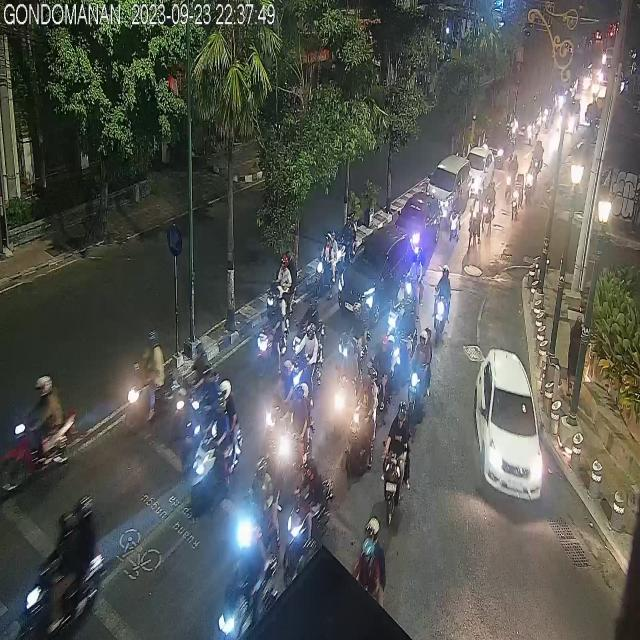car: (475, 350, 543, 501), (341, 228, 412, 328), (394, 188, 443, 262), (427, 157, 469, 222), (464, 148, 495, 196), (483, 128, 512, 171)
motorcycle: (15, 495, 101, 640), (0, 370, 75, 498), (192, 381, 241, 515), (284, 458, 330, 578), (122, 329, 166, 428), (344, 366, 377, 476), (383, 403, 412, 522), (279, 382, 311, 475), (333, 297, 371, 373), (289, 322, 323, 404), (354, 514, 385, 602), (256, 294, 286, 372), (408, 327, 431, 420), (268, 245, 298, 311), (433, 268, 452, 346), (314, 234, 336, 295), (336, 214, 359, 266)
